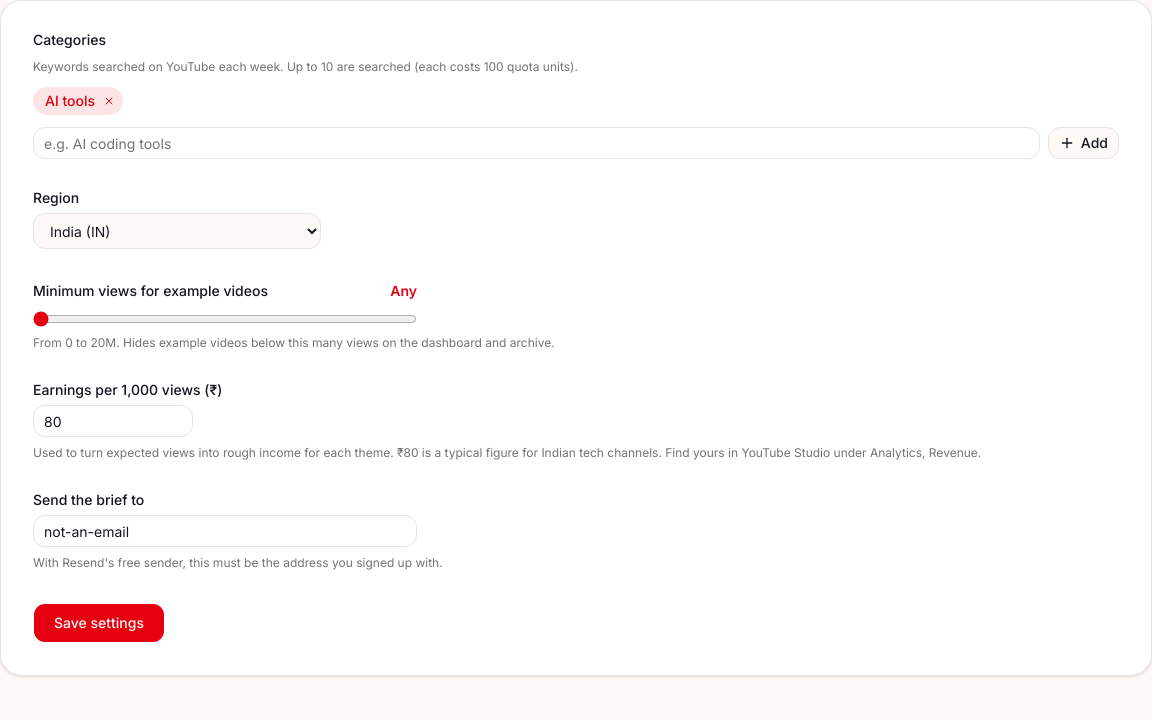
Test: SettingsForm email and region › blocks an invalid email and shows the error next to the field
Click the button "Save settings": point(99, 623) [33,603,165,643]
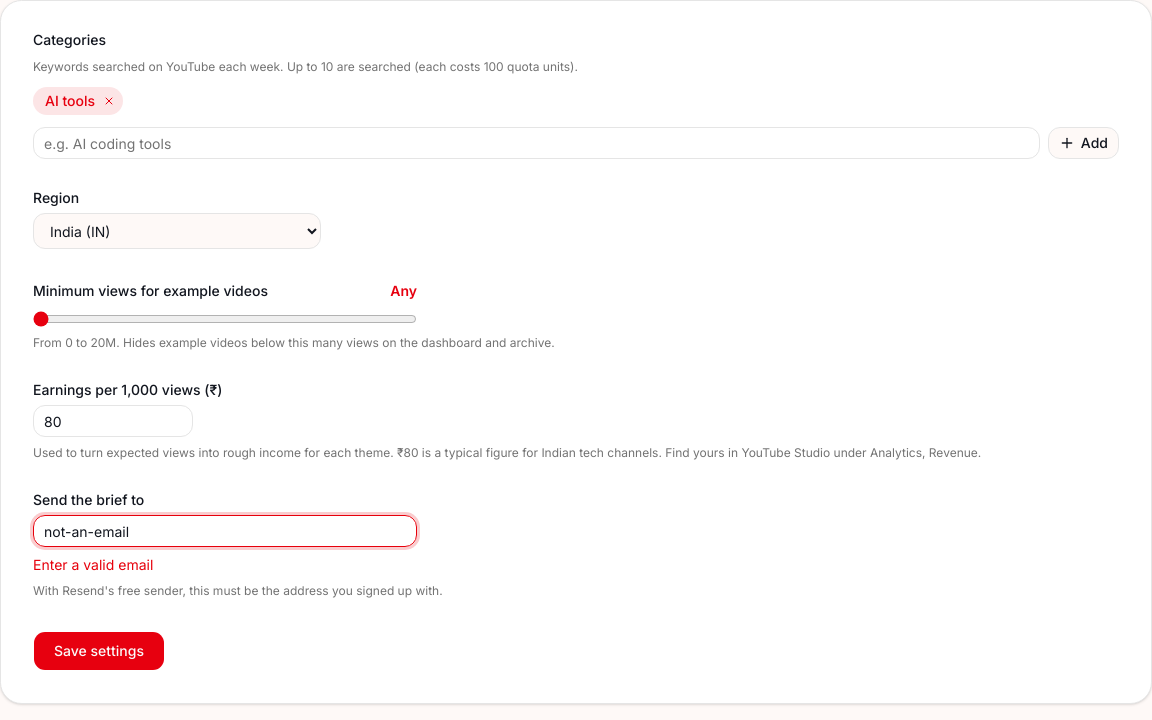
expect the message shows "valid email": met, box [33,556,153,573]
